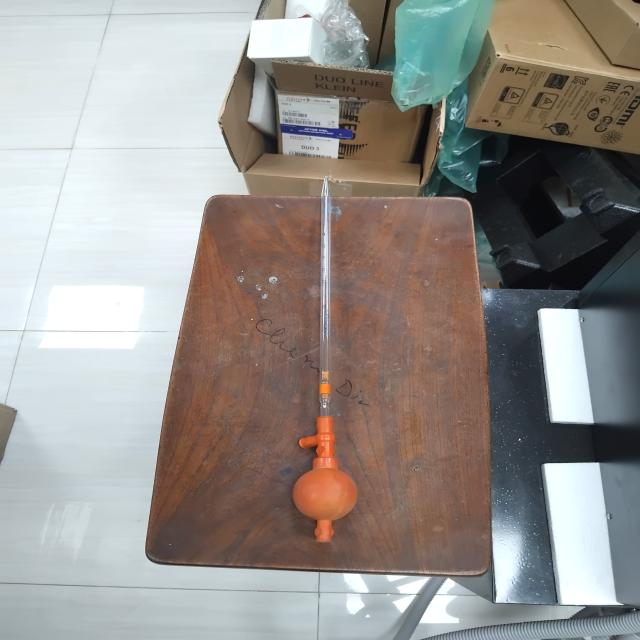Volumetric_Pipet: (274, 160, 378, 549)
